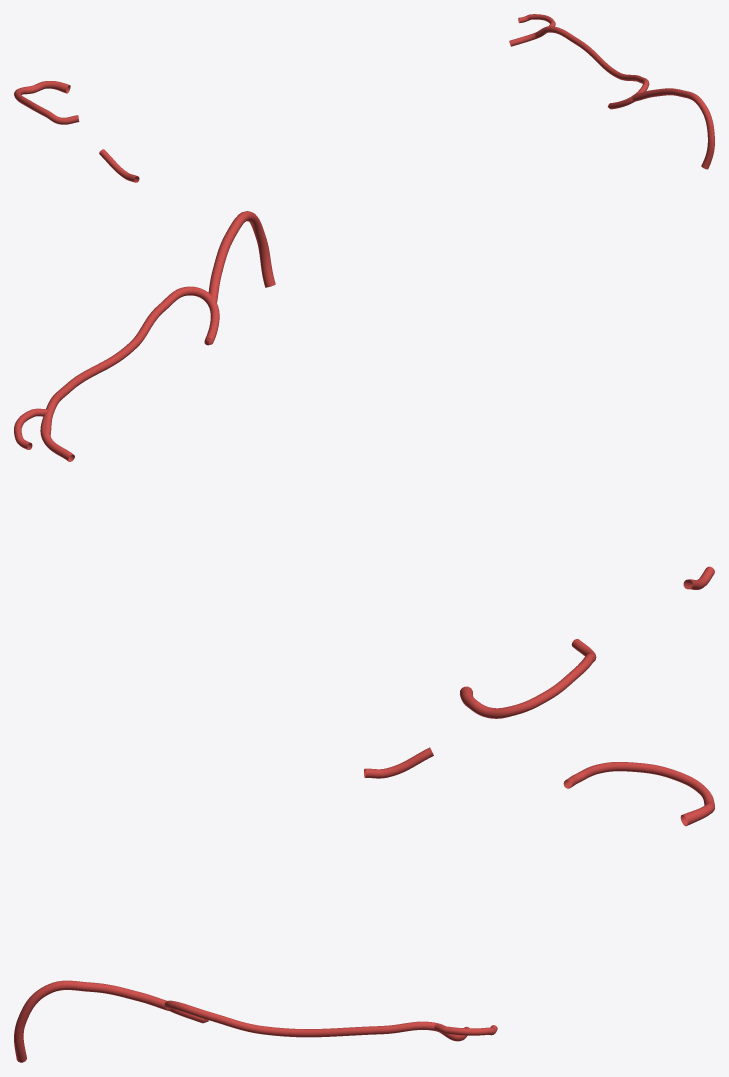
3 renders of one model, top to bottom at view 1: azimuth 30°, elevation 25°; view 2: azimuth 150°, elevation 25°; view 3: azimuth 270°, elevation 25°, orthographic. The views are drawn at different scales.
Parts seen in each view (by area): view 1: 右缘支; view 2: 右缘支; view 3: 右缘支.
Part boxes in pixels (bbox=[...]): 右缘支: bbox=[14, 14, 714, 182]; 右缘支: bbox=[14, 211, 714, 718]; 右缘支: bbox=[14, 747, 714, 1062].
Bounding box in the file's own units: 0.2006 × 0.031 × 0.1978.
